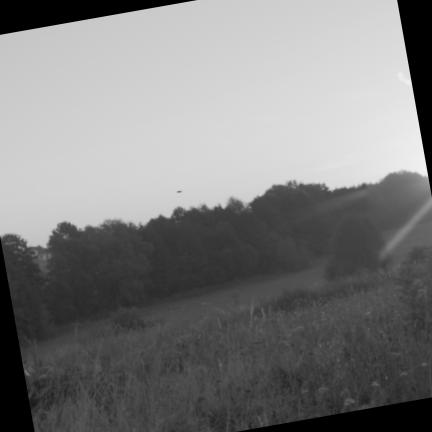Shahed: (175, 190, 182, 193)
